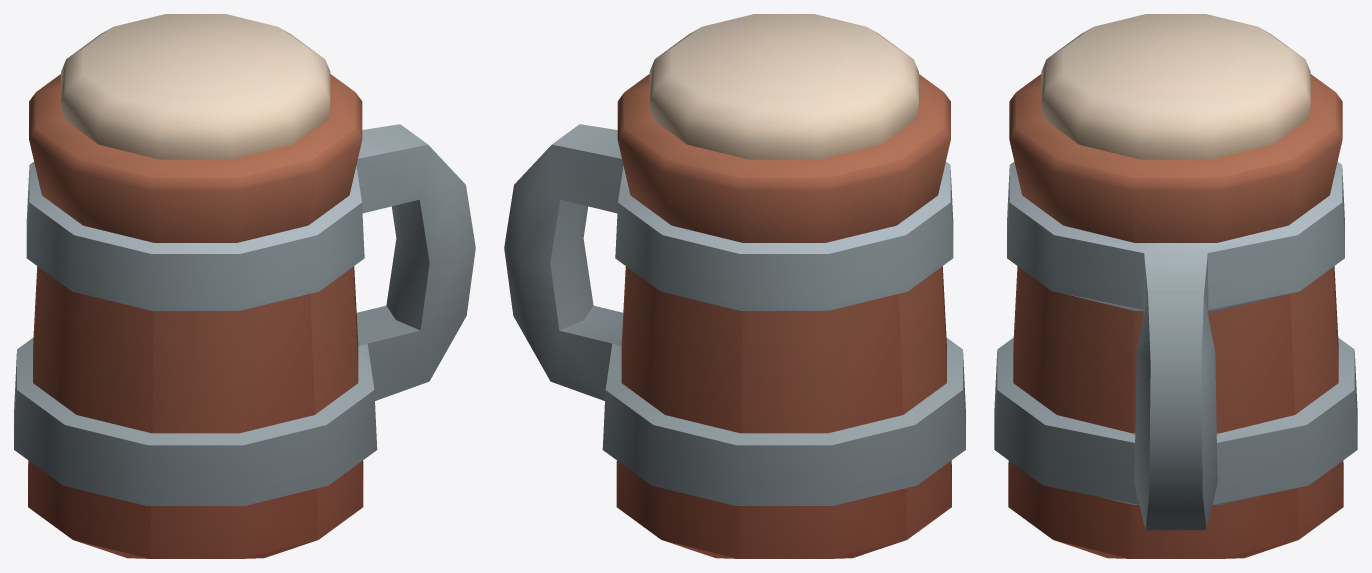
File: kaykit-mug-full.glb
3 renders of one model, left to right at view 1: azimuth 30°, elevation 25°; view 2: azimuth 150°, elevation 25°; view 3: azimuth 270°, elevation 25°, orthographic.
Visible parts, largest first — view 1: mug_full; view 2: mug_full; view 3: mug_full.
Part boxes in pixels (x1=…): mug_full: x1=14, y1=14, x2=475, y2=558; mug_full: x1=504, y1=14, x2=965, y2=558; mug_full: x1=994, y1=14, x2=1357, y2=558.
Bounding box in the file's own units: 0.5342 × 0.5484 × 0.3959.
1 material, 1 textured.
